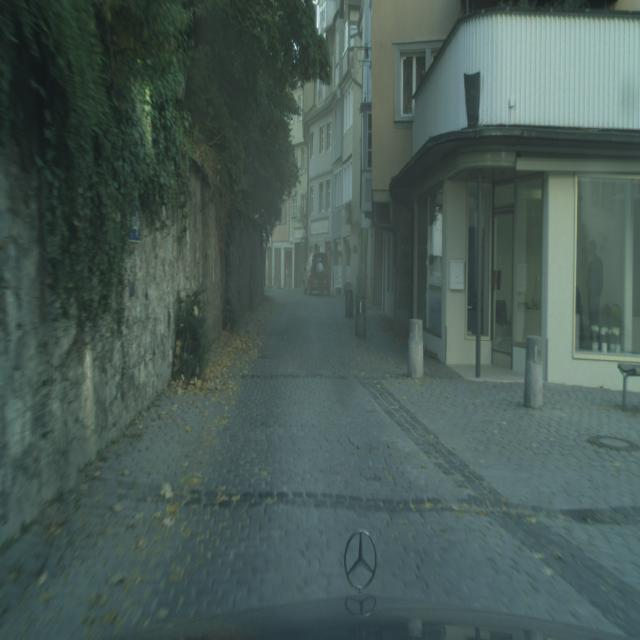bus: (303, 252, 331, 298)
person: (316, 259, 325, 298)
